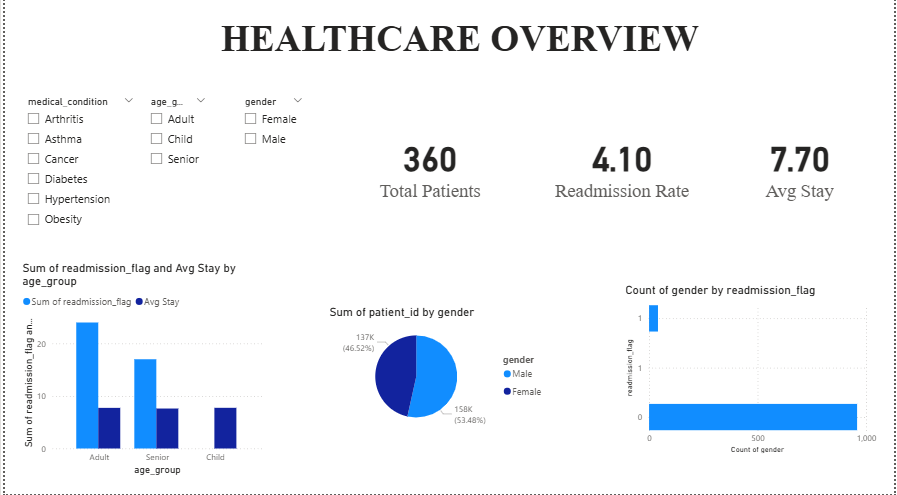

This screenshot's page, from the dashboard's own definition file:
{"tool":"powerbi","page":{"name":"Page 1","canvas":[1280,720],"ordinal":0},"visuals":[{"type":"card","fields":{"Values":["clean_health_data.Total Patients"]},"box":[531.4,177.1,161.3,139.7],"z":0},{"type":"card","fields":{"Values":["clean_health_data.Readmission Rate"]},"box":[783.4,177.1,210.2,139.7],"z":2},{"type":"card","fields":{"Values":["clean_health_data.Avg Stay"]},"box":[1057,165.6,174.2,162.7],"z":3},{"type":"clusteredColumnChart","fields":{"Category":["clean_health_data.age_group"],"Y":["Sum(clean_health_data.readmission_flag)","clean_health_data.Avg Stay"]},"box":[20,385,355,313.3],"z":4},{"type":"pieChart","fields":{"Category":["clean_health_data.gender"],"Y":["Sum(clean_health_data.patient_id)"]},"box":[461.7,448.3,325,186.7],"z":5},{"type":"barChart","fields":{"Category":["clean_health_data.readmission_flag"],"Y":["CountNonNull(clean_health_data.gender)"]},"box":[888.3,416.7,371.7,250],"z":6},{"type":"slicer","fields":{"Values":["clean_health_data.age_group"]},"box":[197.3,141.1,103.7,164.2],"z":7},{"type":"slicer","fields":{"Values":["clean_health_data.gender"]},"box":[332.6,141.1,108,149.8],"z":8},{"type":"slicer","fields":{"Values":["clean_health_data.medical_condition"]},"box":[20.2,141.1,177.1,211.7],"z":9},{"type":"textbox","box":[301,27.4,708.5,79.2],"z":10}]}

Visuals, with their boxes in screenshot pixels (x1, y1, x2, y2), scaled from the page's 1280x720 canvas onto the 897x495 screenshot:
card - clean_health_data.Total Patients: [372, 122, 485, 218]
card - clean_health_data.Readmission Rate: [549, 122, 696, 218]
card - clean_health_data.Avg Stay: [741, 114, 863, 226]
clusteredColumnChart - clean_health_data.age_group x Sum(clean_health_data.readmission_flag): [14, 265, 263, 480]
pieChart - clean_health_data.gender x Sum(clean_health_data.patient_id): [324, 308, 551, 437]
barChart - clean_health_data.readmission_flag x CountNonNull(clean_health_data.gender): [623, 286, 883, 458]
slicer - clean_health_data.age_group: [138, 97, 211, 210]
slicer - clean_health_data.gender: [233, 97, 309, 200]
slicer - clean_health_data.medical_condition: [14, 97, 138, 243]
textbox: [211, 19, 707, 73]
